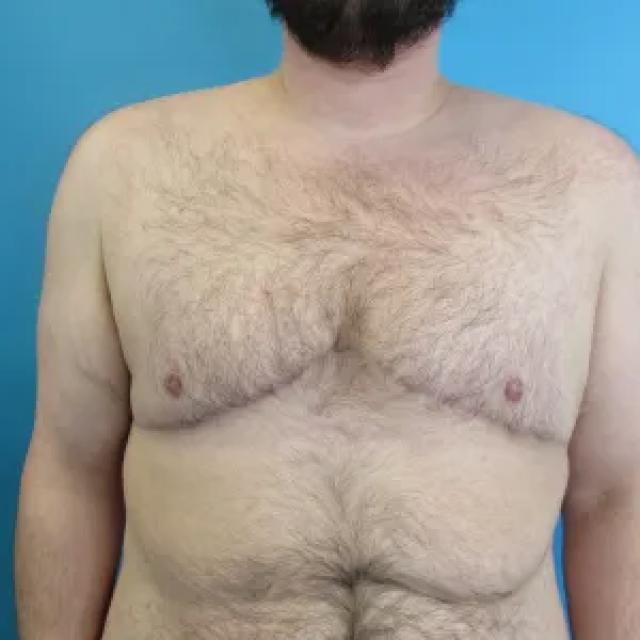Seno herido: (351, 235, 592, 466), (115, 236, 345, 451)
